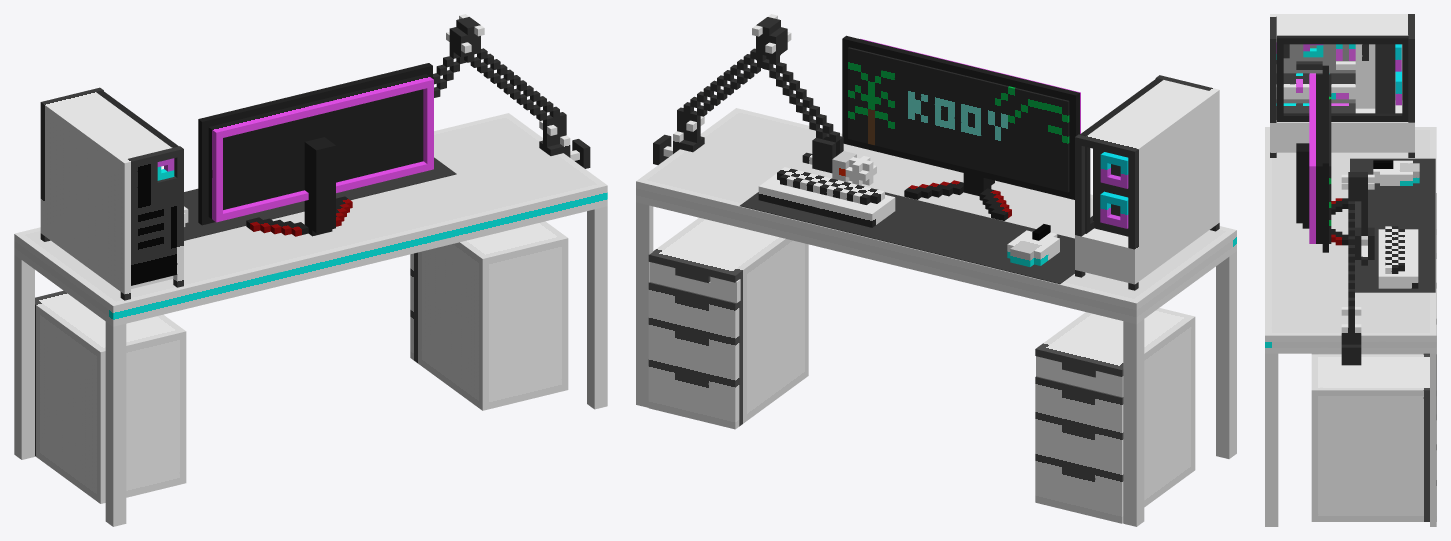
3 views of the same model, side by side, from view 1: azimuth 30°, elevation 25°; view 2: azimuth 150°, elevation 25°; view 3: azimuth 270°, elevation 25° (orthographic). The views are drawn at different scales.
Visible parts, largest first — view 1: Desk-Local, Monitor-Local, Drawers-Local, Drawers2-Local, PC-Local, MicStand-Local, MousePad-Local; view 2: Desk-Local, Drawers-Local, Drawers2-Local, PC-Local, Screen-Local, MousePad-Local, MicStand-Local, Monitor-Local, Keyboard-Local, Drawer1-Local, Mouse-Local, Drawer1 (1)-Local (+3 smaller); view 3: Desk-Local, Drawers-Local, PC-Local, MousePad-Local, Monitor-Local, MicStand-Local, SidePanel-Local, Keyboard-Local, Mouse-Local, Screen-Local, Drawers2-Local, Fan-Local (+1 smaller).
Part boxes in pixels (box(x1,y1,x2,y2)): Desk-Local: box(14, 113, 607, 526); Monitor-Local: box(198, 63, 433, 236); Drawers-Local: box(410, 221, 568, 410); Drawers2-Local: box(35, 290, 186, 503); PC-Local: box(40, 87, 183, 300); MicStand-Local: box(433, 14, 590, 168); MousePad-Local: box(184, 157, 456, 240); Desk-Local: box(636, 108, 1236, 526); Drawers-Local: box(648, 217, 808, 429); Drawers2-Local: box(1035, 308, 1195, 523); PC-Local: box(1075, 75, 1219, 290); Screen-Local: box(848, 47, 1069, 192); MousePad-Local: box(740, 192, 1074, 284); MicStand-Local: box(653, 14, 876, 185); Monitor-Local: box(842, 35, 1080, 220); Keyboard-Local: box(758, 167, 895, 227); Drawer1-Local: box(650, 262, 740, 303); Mouse-Local: box(1007, 224, 1059, 266); Drawer1 (1)-Local: box(1036, 356, 1123, 397); Desk-Local: box(1265, 127, 1436, 526); Drawers-Local: box(1311, 354, 1436, 521); PC-Local: box(1270, 14, 1414, 157); MousePad-Local: box(1350, 158, 1435, 292); Monitor-Local: box(1296, 65, 1348, 252); MicStand-Local: box(1341, 172, 1374, 365); SidePanel-Local: box(1277, 35, 1408, 121); Keyboard-Local: box(1378, 226, 1418, 288); Mouse-Local: box(1373, 160, 1419, 185); Screen-Local: box(1329, 74, 1331, 243); Drawers2-Local: box(1312, 193, 1436, 354); Fan-Local: box(1303, 44, 1323, 57).
Bounding box in the file's own units: 79.04 × 52.96 × 26.05.
Materials: 17 (17 with a texture image).
